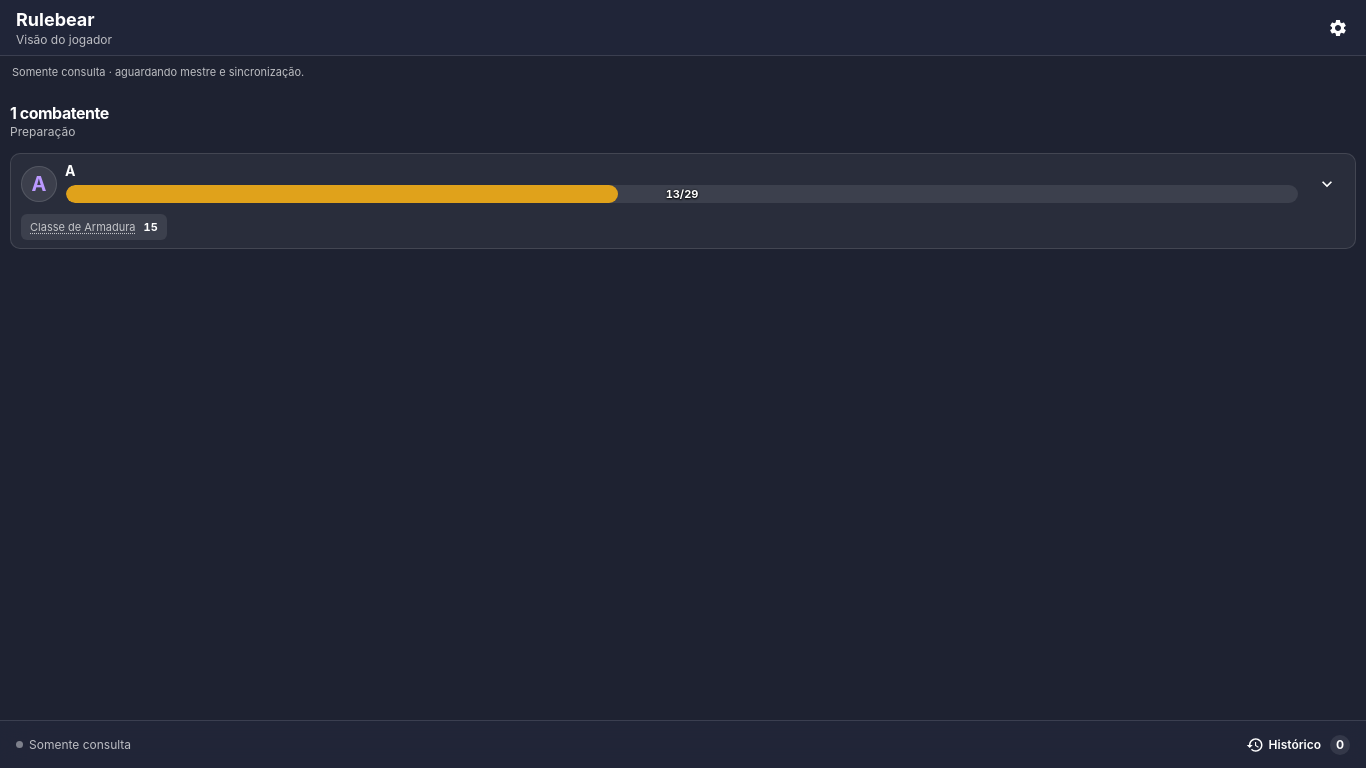
Test case: sigla e descrição dos marcadores › jogador lê a descrição só dos marcadores que pode ver
The width and height of the screenshot is (1366, 768).
Click the button named "Detalhes de A".
click(1327, 184)  # box top-left (1307, 164), bottom-right (1347, 204)
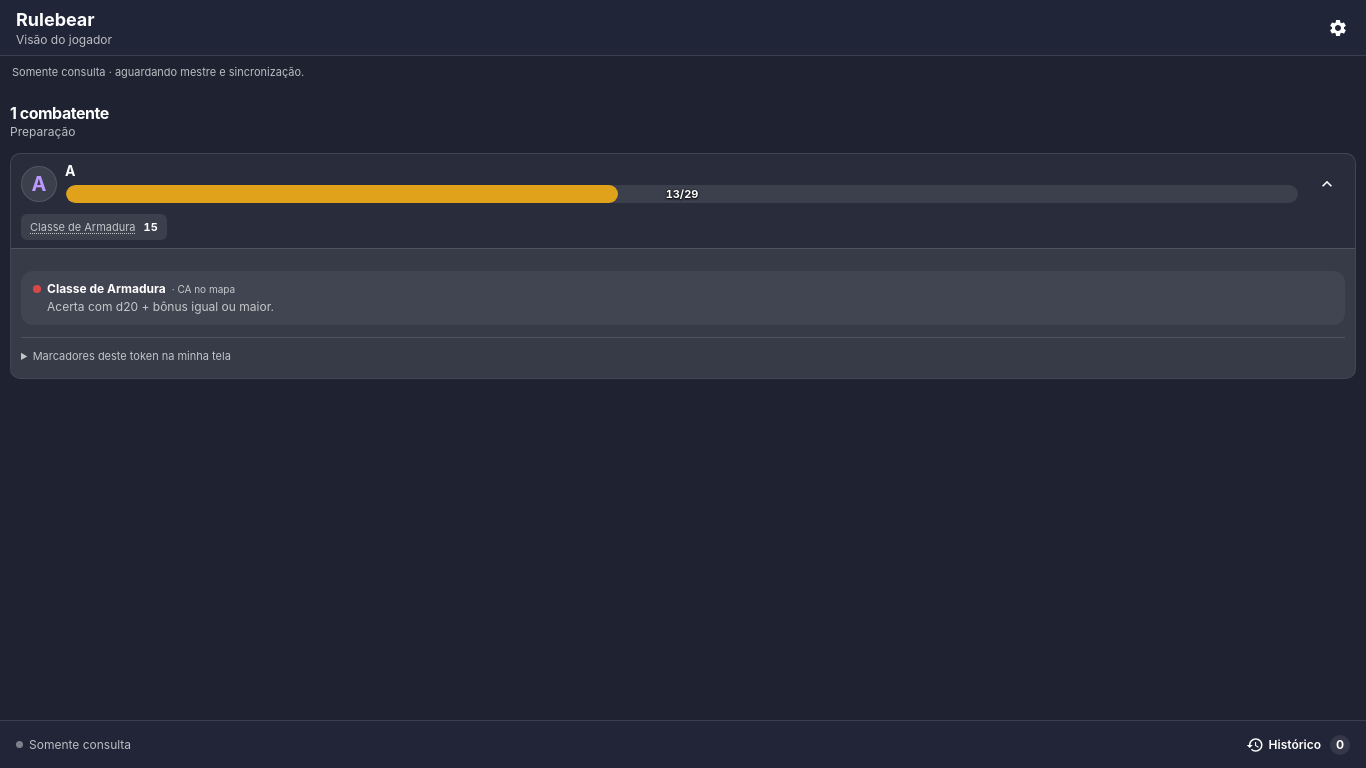
Now the text "Acerta com d20 + bônus igual ou maior." is shown, box top-left (47, 299), bottom-right (274, 314)
